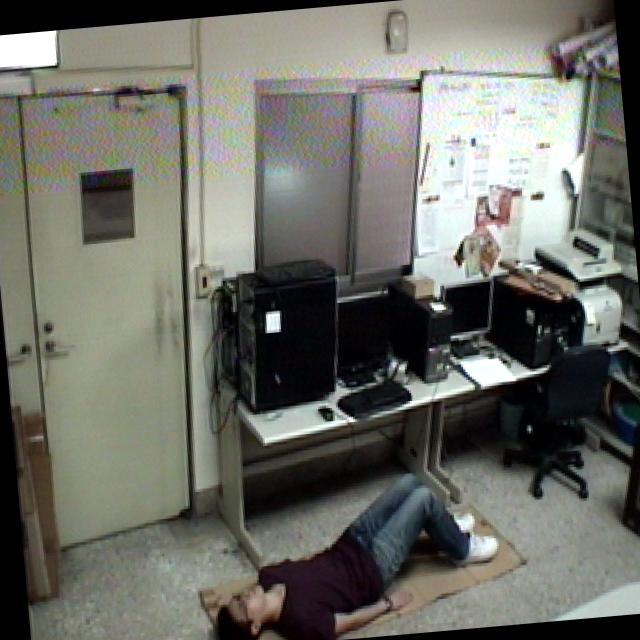lie: (195, 461, 507, 640)
